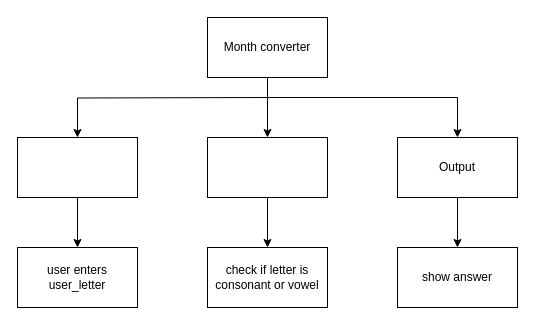
Image size: 535x325. Some labels were removed from this diagram. Here are the shapes that lost their labels. From the top down, the centre of each, then its label:
pixel 77 167: Input
pixel 267 167: Process
